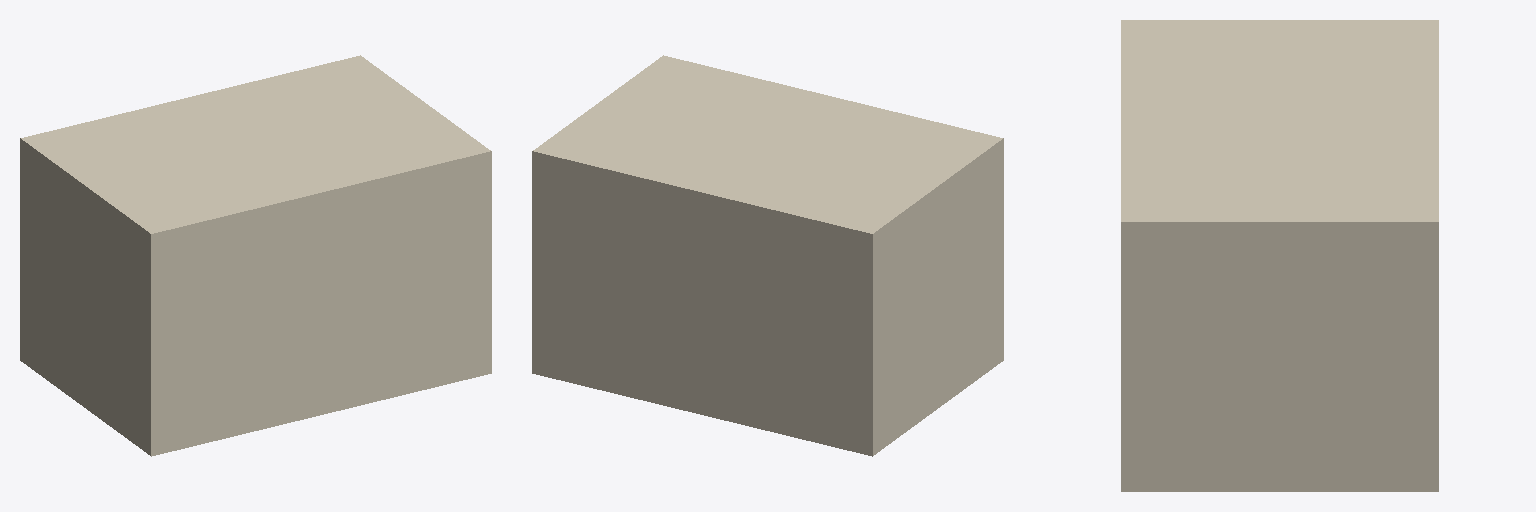
robot.urdf — table_simple:
<?xml version="1.0"?>
<robot name="table_simple">
  <link name="base_link">
    <inertial>
      <origin xyz="0 0 0.375" rpy="0 0 0"/>
      <mass value="20.0"/>
      <inertia ixx="0.8" ixy="0" ixz="0" iyy="0.5" iyz="0" izz="0.9"/>
    </inertial>
    <visual>
      <origin xyz="0 0 0.375" rpy="0 0 0"/>
      <geometry><box size="1.2 0.8 0.75"/></geometry>
      <material name="table_mat"><color rgba="0.86 0.83 0.76 1.0"/></material>
    </visual>
    <collision>
      <origin xyz="0 0 0.75" rpy="0 0 0"/>
      <geometry><box size="1.2 0.8 0.05"/></geometry>
    </collision>
    <collision>
      <origin xyz="0.55 0.35 0.375" rpy="0 0 0"/>
      <geometry><cylinder radius="0.025" length="0.75"/></geometry>
    </collision>
    <collision>
      <origin xyz="-0.55 0.35 0.375" rpy="0 0 0"/>
      <geometry><cylinder radius="0.025" length="0.75"/></geometry>
    </collision>
    <collision>
      <origin xyz="0.55 -0.35 0.375" rpy="0 0 0"/>
      <geometry><cylinder radius="0.025" length="0.75"/></geometry>
    </collision>
    <collision>
      <origin xyz="-0.55 -0.35 0.375" rpy="0 0 0"/>
      <geometry><cylinder radius="0.025" length="0.75"/></geometry>
    </collision>
  </link>
</robot>

--- What the picture shows (computed from the rendered views, not written in the file) ---
Views: 3 orthographic renders of the robot side by side, from view 1: azimuth 30°, elevation 25°; view 2: azimuth 150°, elevation 25°; view 3: azimuth 270°, elevation 25°.
Robot: table_simple — 1 links, 0 joints (none); root link base_link; default pose: all joints at 0.
Links seen in each view (by area): view 1: base_link; view 2: base_link; view 3: base_link.
Link boxes in pixels (x1=…): base_link: x1=20, y1=55, x2=491, y2=456; base_link: x1=532, y1=55, x2=1003, y2=456; base_link: x1=1121, y1=20, x2=1438, y2=491.
Bounding box of the posed robot: 1.2 × 0.8 × 0.75 m (x, y, z).
Geometry: primitives only (box / cylinder / sphere), no mesh files.
